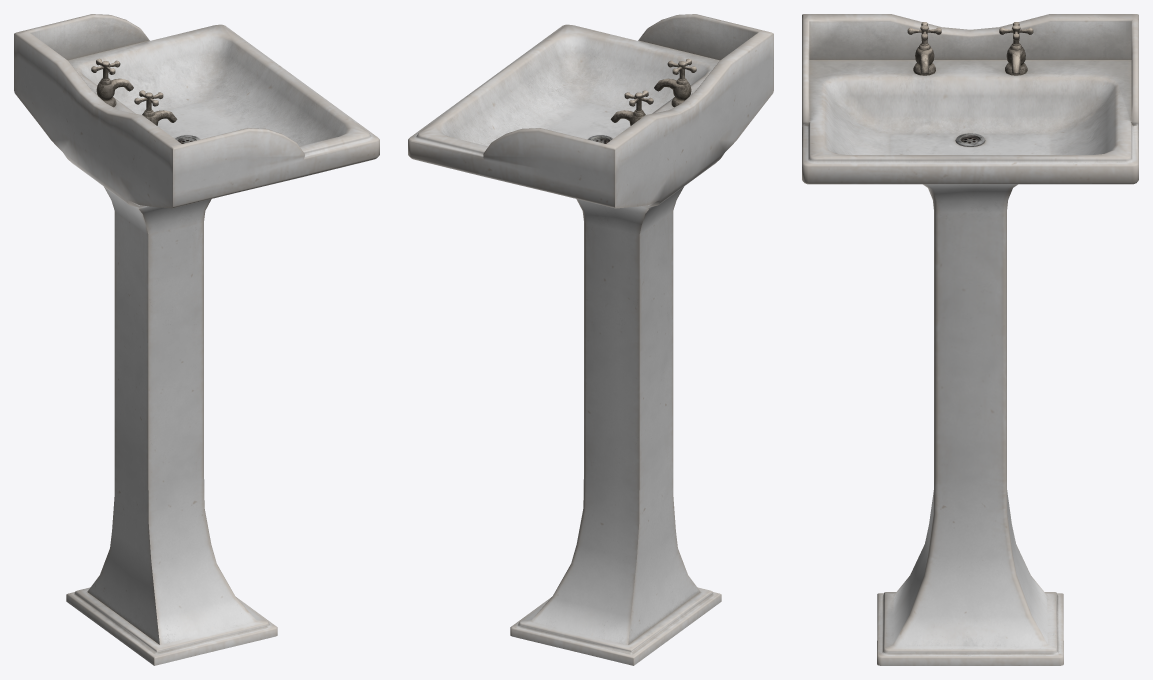
The model's file is sink (1).glb.
3 views of the same model, side by side, from view 1: azimuth 30°, elevation 25°; view 2: azimuth 150°, elevation 25°; view 3: azimuth 270°, elevation 25° (orthographic). The views are drawn at different scales.
Visible parts, largest first — view 1: Cube; view 2: Cube; view 3: Cube.
Boxes of the visible parts, left/top/right/bottom form: Cube: left=14, top=14, right=379, bottom=665; Cube: left=408, top=14, right=773, bottom=665; Cube: left=802, top=14, right=1138, bottom=665.
Size of the model in its own units: 0.4705 by 1.19 by 0.6198.
1 material, 1 textured.
